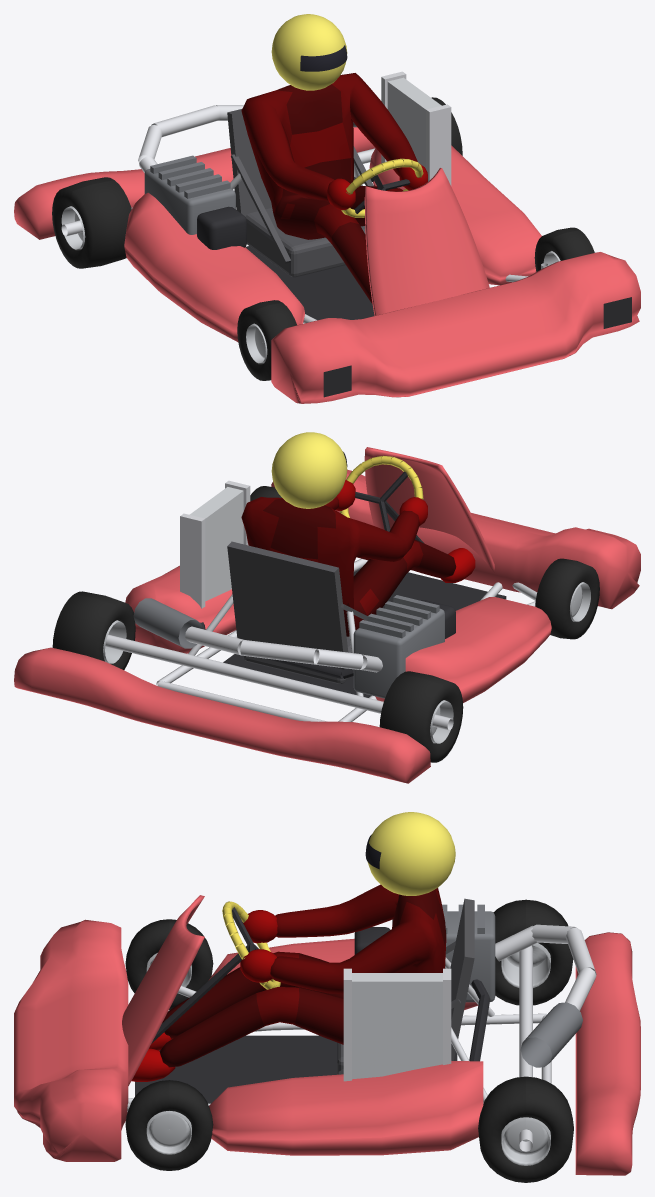
3 renders of one model, top to bottom at view 1: azimuth 30°, elevation 25°; view 2: azimuth 150°, elevation 25°; view 3: azimuth 270°, elevation 25°, orthographic. The views are drawn at different scales.
Visible parts, largest first — view 1: kart_body, kart_driver, kart_dark, kart_seat, tyre_RR, kart_frame, kart_engine, helmet, kart_rad, tyre_FR, tyre_FL, kart_wheel (+3 smaller); view 2: kart_body, kart_driver, kart_frame, kart_seat, kart_engine, kart_dark, helmet, tyre_RR, tyre_RL, kart_rad, tyre_FR, kart_wheel (+3 smaller); view 3: kart_body, kart_driver, kart_dark, kart_rad, kart_frame, tyre_RL, helmet, kart_engine, tyre_FL, tyre_RR, tyre_FR, kart_seat (+4 smaller).
Part boxes in pixels (bbox=[...]): kart_body: bbox=[14, 127, 640, 403]; kart_driver: bbox=[241, 73, 427, 303]; kart_dark: bbox=[197, 170, 631, 397]; kart_seat: bbox=[227, 109, 373, 277]; tyre_RR: bbox=[52, 177, 131, 268]; kart_frame: bbox=[61, 71, 547, 323]; kart_engine: bbox=[144, 122, 356, 234]; helmet: bbox=[271, 14, 347, 90]; kart_rad: bbox=[387, 77, 441, 168]; tyre_FR: bbox=[237, 300, 296, 380]; tyre_FL: bbox=[534, 227, 594, 271]; kart_wheel: bbox=[341, 158, 423, 217]; kart_body: bbox=[14, 447, 640, 783]; kart_driver: bbox=[241, 480, 475, 636]; kart_frame: bbox=[105, 480, 537, 730]; kart_seat: bbox=[227, 541, 367, 683]; kart_engine: bbox=[133, 595, 444, 698]; kart_dark: bbox=[200, 471, 506, 697]; helmet: bbox=[271, 432, 347, 508]; tyre_RR: bbox=[379, 671, 463, 762]; tyre_RL: bbox=[52, 591, 135, 669]; kart_rad: bbox=[189, 487, 243, 601]; tyre_FR: bbox=[535, 558, 599, 639]; kart_wheel: bbox=[340, 456, 423, 517]; kart_body: bbox=[14, 895, 640, 1175]; kart_driver: bbox=[131, 884, 446, 1081]; kart_dark: bbox=[135, 907, 490, 1103]; kart_rad: bbox=[352, 973, 442, 1079]; kart_frame: bbox=[127, 924, 596, 1151]; tyre_RL: bbox=[478, 1076, 573, 1182]; helmet: bbox=[367, 812, 455, 895]; kart_engine: bbox=[392, 904, 582, 1067]; tyre_FL: bbox=[125, 1080, 213, 1170]; tyre_RR: bbox=[493, 899, 573, 1005]; tyre_FR: bbox=[125, 919, 213, 1010]; kart_seat: bbox=[337, 898, 474, 1074].
Bounding box in the file's own units: 1.46 × 0.8655 × 1.83.
